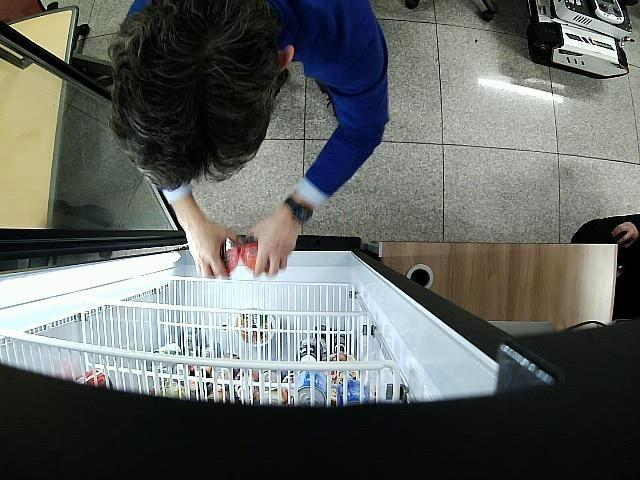02_shinRamen_S: (240, 236, 270, 272), (220, 237, 238, 274)
